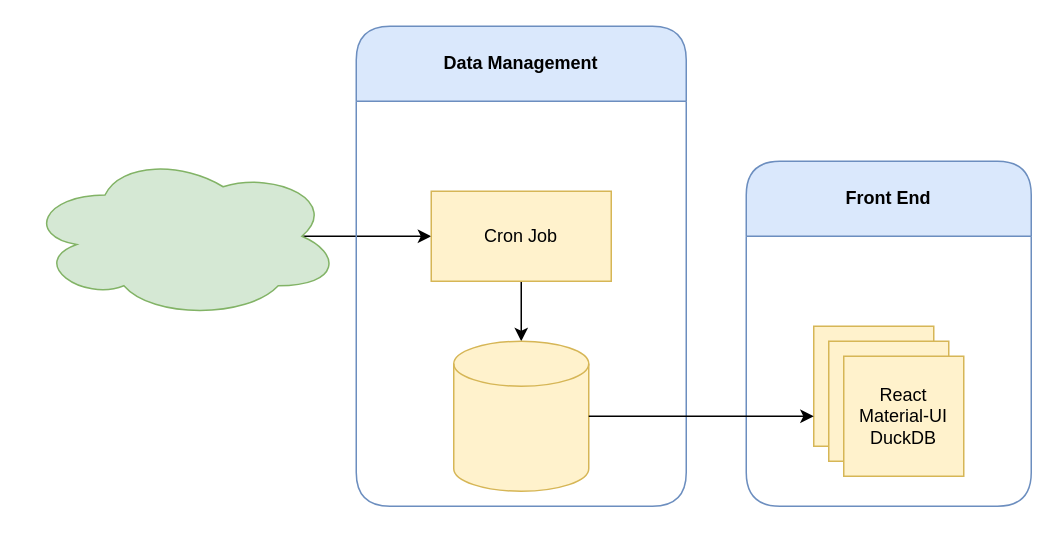
Some shapes in this 1058 by 533 pixel diagram are drawn without their labels. Here are the shapes that lost their labels. From the top down, the centre of each, then its label:
the point at 183,235: 311-data Source
the point at 520,415: Hugging Face
